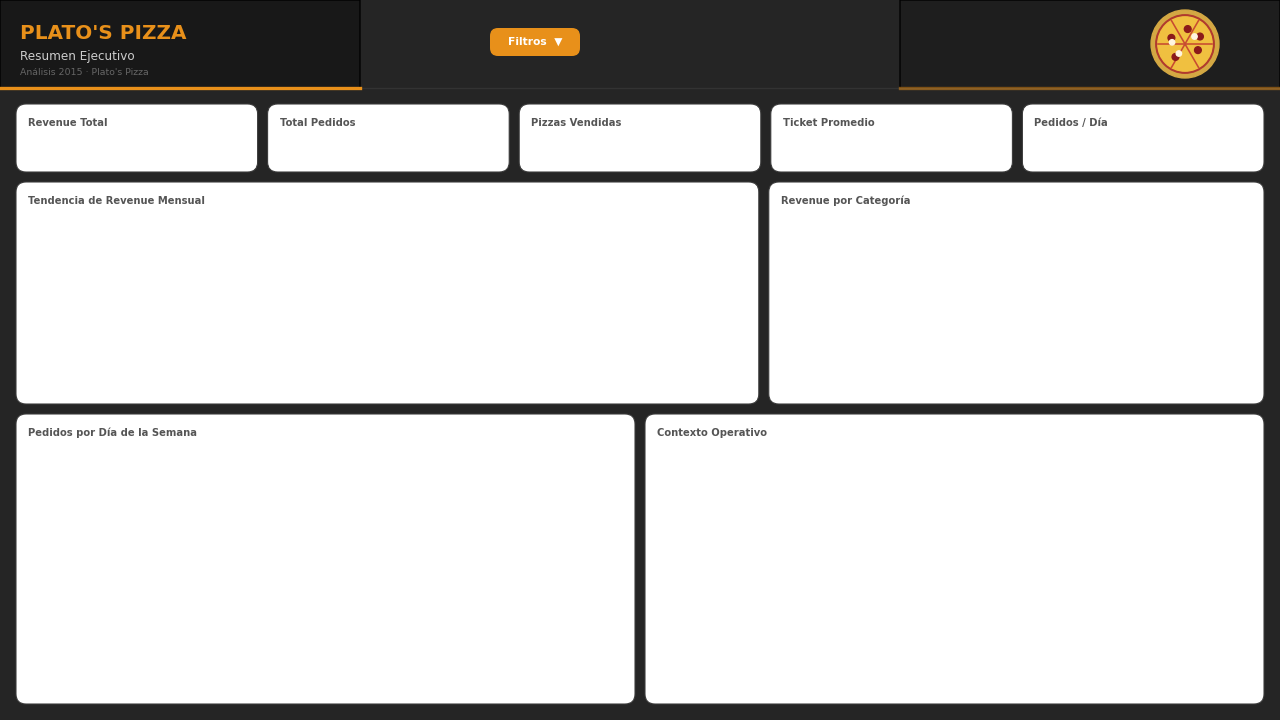

Layout of this report page (visuals, bound fields, positions):
{"tool":"powerbi","page":{"name":"Resumen","canvas":[1280,720],"ordinal":0},"visuals":[{"type":"cardVisual","fields":{"Data":["pizza_features.Ticket Promedio"]},"box":[769.2,103.6,238.8,72],"z":0},{"type":"cardVisual","fields":{"Data":["pizza_features.Pedidos Por Dia"]},"box":[1021.2,103.6,238.8,72],"z":1000},{"type":"cardVisual","fields":{"Data":["Sum(pizza_features.revenue)"]},"box":[16.7,103.6,238.8,72],"z":2000},{"type":"cardVisual","fields":{"Data":["Count(pizza_features.order_id)"]},"box":[263.4,103.6,238.8,72],"z":3000},{"type":"cardVisual","fields":{"Data":["Sum(pizza_features.quantity)"]},"box":[520.7,103.6,238.8,72],"z":4000},{"type":"lineChart","fields":{"Category":["agg_monthly.month_name"],"Y":["Sum(agg_monthly.revenue)"]},"box":[16.7,182.6,741.1,219.5],"z":5000},{"type":"donutChart","fields":{"Category":["pizza_features.category"],"Y":["Sum(pizza_features.revenue)"]},"box":[770.9,203.7,492.6,195.8],"z":6000},{"type":"barChart","fields":{"Category":["agg_daily.day_name_es"],"Y":["Sum(agg_daily.orders)"]},"box":[14.9,425,610.2,276.6],"z":7000},{"type":"cardVisual","fields":{"Data":["pizza_features.Días Operados"]},"box":[645.4,412.7,618.1,246.7],"z":8000},{"type":"textbox","box":[645.4,634,618.1,50.9],"z":9000},{"type":"slicer","fields":{"Values":["pizza_features.month_name"]},"box":[719.1,14,172.1,61.5],"z":9001},{"type":"slicer","fields":{"Values":["pizza_features.category"]},"box":[585.7,14,133.5,61.5],"z":9002}]}

Visuals, with their boxes in screenshot pixels (x1, y1, x2, y2), scaled from the page's 1280x720 canvas onto the 1280x720 screenshot:
cardVisual - pizza_features.Ticket Promedio: (769, 104, 1008, 176)
cardVisual - pizza_features.Pedidos Por Dia: (1021, 104, 1260, 176)
cardVisual - Sum(pizza_features.revenue): (17, 104, 256, 176)
cardVisual - Count(pizza_features.order_id): (263, 104, 502, 176)
cardVisual - Sum(pizza_features.quantity): (521, 104, 760, 176)
lineChart - agg_monthly.month_name x Sum(agg_monthly.revenue): (17, 183, 758, 402)
donutChart - pizza_features.category x Sum(pizza_features.revenue): (771, 204, 1264, 400)
barChart - agg_daily.day_name_es x Sum(agg_daily.orders): (15, 425, 625, 702)
cardVisual - pizza_features.Días Operados: (645, 413, 1264, 659)
textbox: (645, 634, 1264, 685)
slicer - pizza_features.month_name: (719, 14, 891, 76)
slicer - pizza_features.category: (586, 14, 719, 76)
